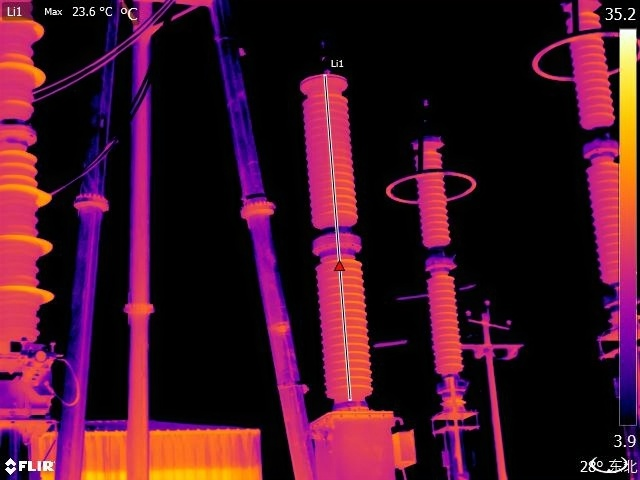lightning arrester: (523, 1, 639, 334), (387, 86, 498, 424)
post insulator: (1, 5, 62, 344)
transformer: (36, 416, 272, 480)
